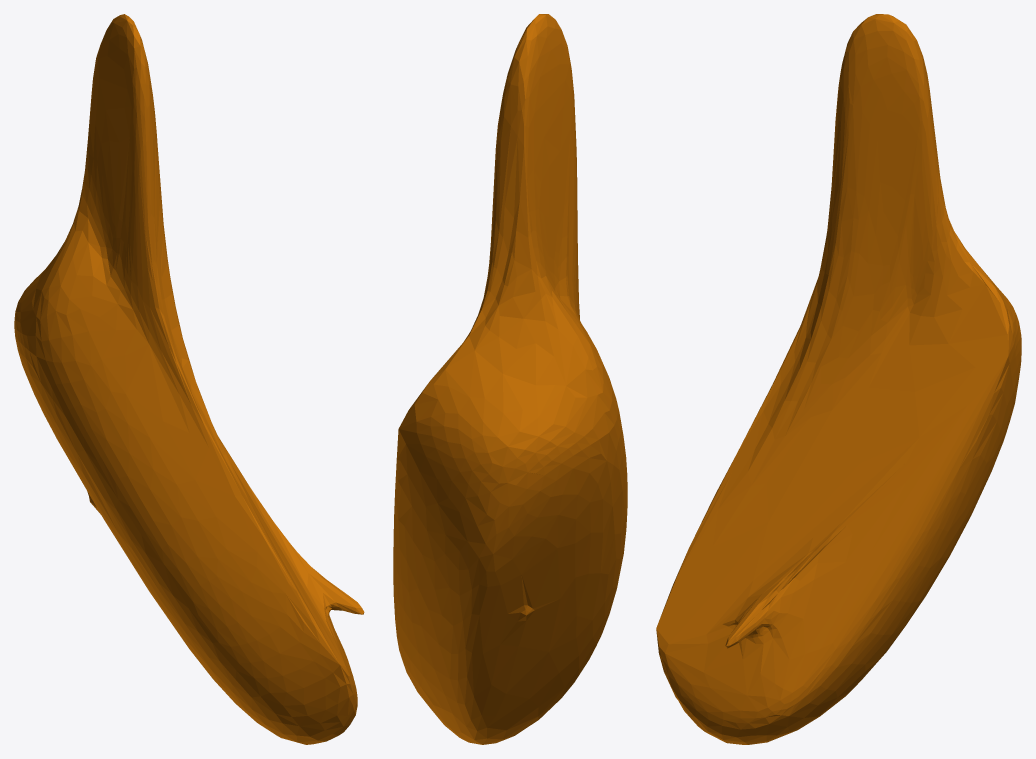
3 renders of one model, left to right at view 1: azimuth 30°, elevation 25°; view 2: azimuth 150°, elevation 25°; view 3: azimuth 270°, elevation 25°, orthographic. The views are drawn at different scales.
Visible parts, largest first — view 1: 009_Cube.049; view 2: 009_Cube.049; view 3: 009_Cube.049.
Part boxes in pixels (box(x1,y1,x2,y2)): 009_Cube.049: box(14, 14, 364, 744); 009_Cube.049: box(393, 14, 627, 744); 009_Cube.049: box(656, 14, 1021, 744).
Bounding box in the file's own units: 5.55 × 15.58 × 7.63.
